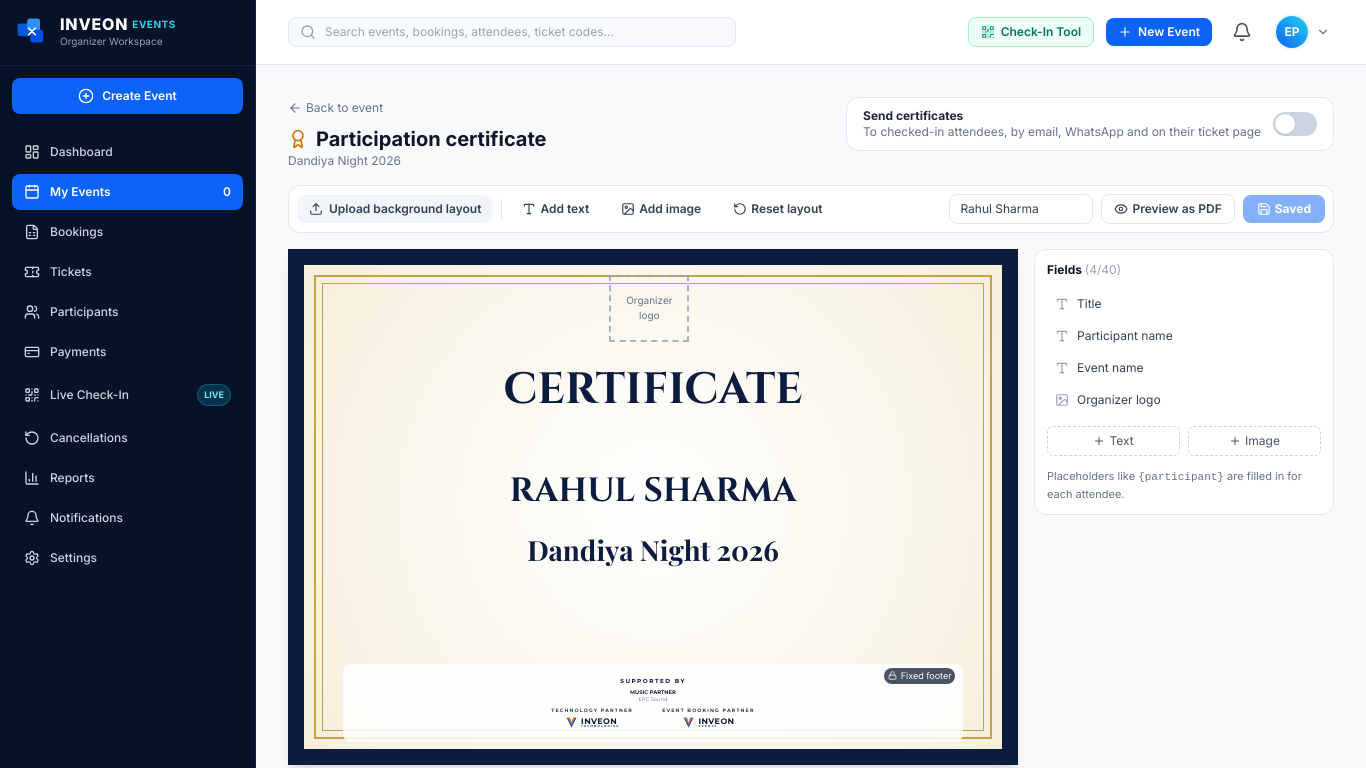
Scenario: Organizer: participation certificate designer › shows the live certificate with the sample attendee, event values and the fixed footer
The image size is (1366, 768).
Check: the text "RAHUL SHARMA" is shown, box top-left (510, 468), bottom-right (796, 513)
Check: the text "Dandiya Night 2026" below "RAHUL SHARMA" is shown, box top-left (527, 531), bottom-right (779, 568)
Replace the text in the field named "Sample participant name" with "Asha Patil" at [1021, 209], box top-left (949, 194), bottom-right (1093, 224)
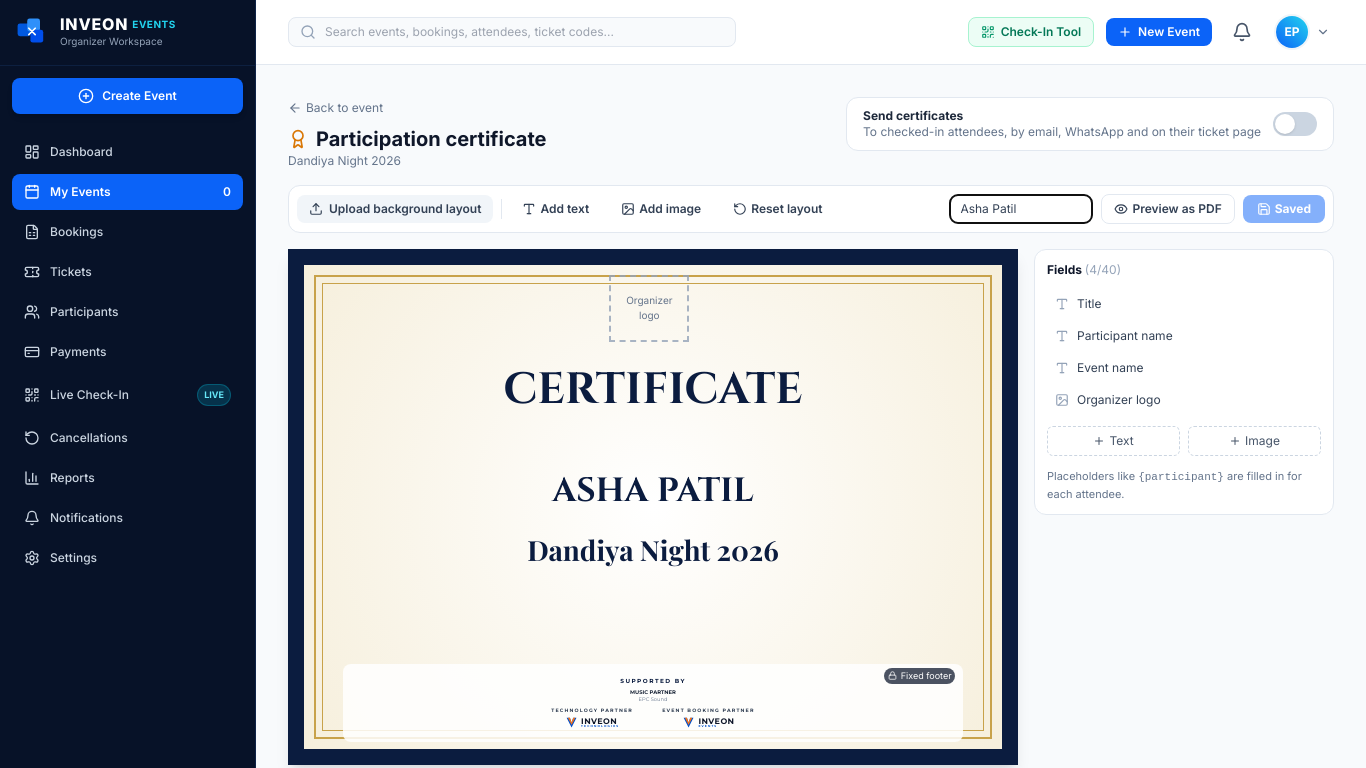
Check: the text "ASHA PATIL" is shown, box top-left (552, 468), bottom-right (754, 513)
